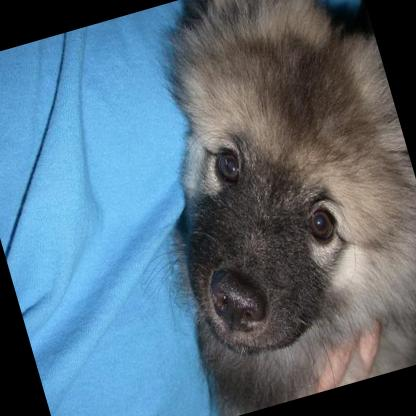keeshond: (92, 0, 416, 416)
